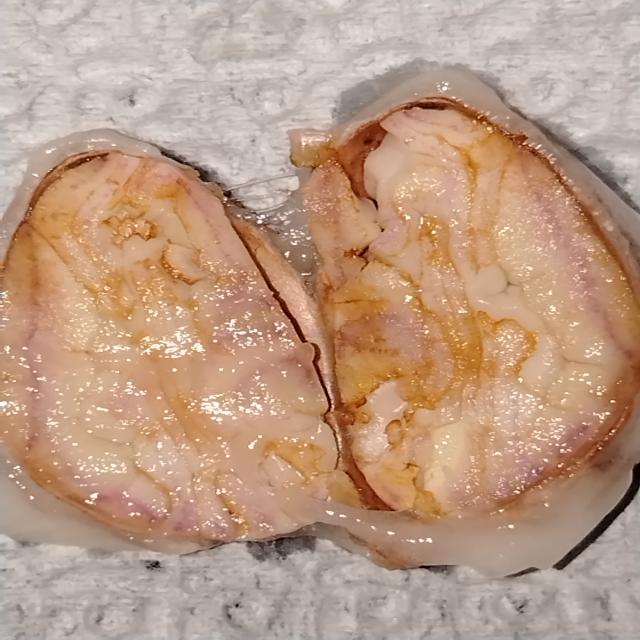Trinitario: (314, 98, 631, 520), (5, 153, 344, 538)
